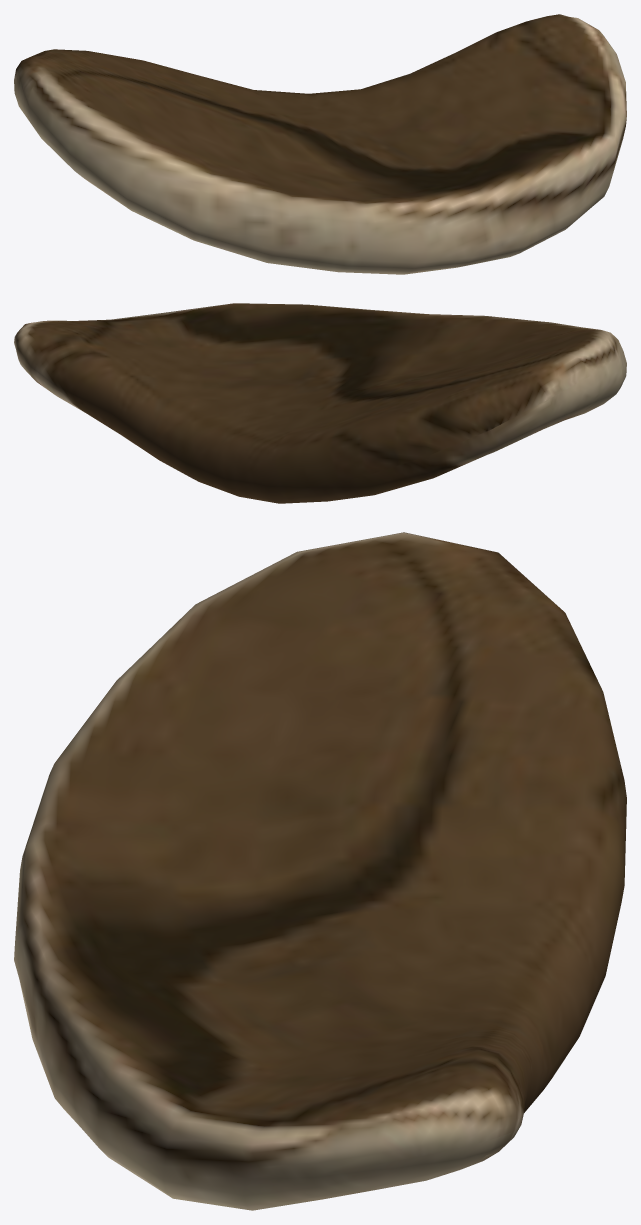
Rendered from Third_Tarsal.glb.
The picture shows the model from 3 angles, top to bottom: view 1: azimuth 30°, elevation 25°; view 2: azimuth 150°, elevation 25°; view 3: azimuth 270°, elevation 25°; orthographic projection. The views are drawn at different scales.
Parts seen in each view (by area): view 1: R_Bck_Third_Tarsal; view 2: R_Bck_Third_Tarsal; view 3: R_Bck_Third_Tarsal.
Boxes of the visible parts, x1,y1,x2,y2 form: R_Bck_Third_Tarsal: (14,14,626,274); R_Bck_Third_Tarsal: (14,303,626,503); R_Bck_Third_Tarsal: (14,532,626,1210).
Bounding box in the file's own units: 0.0524 × 0.017 × 0.0302.
1 material, 1 textured.
